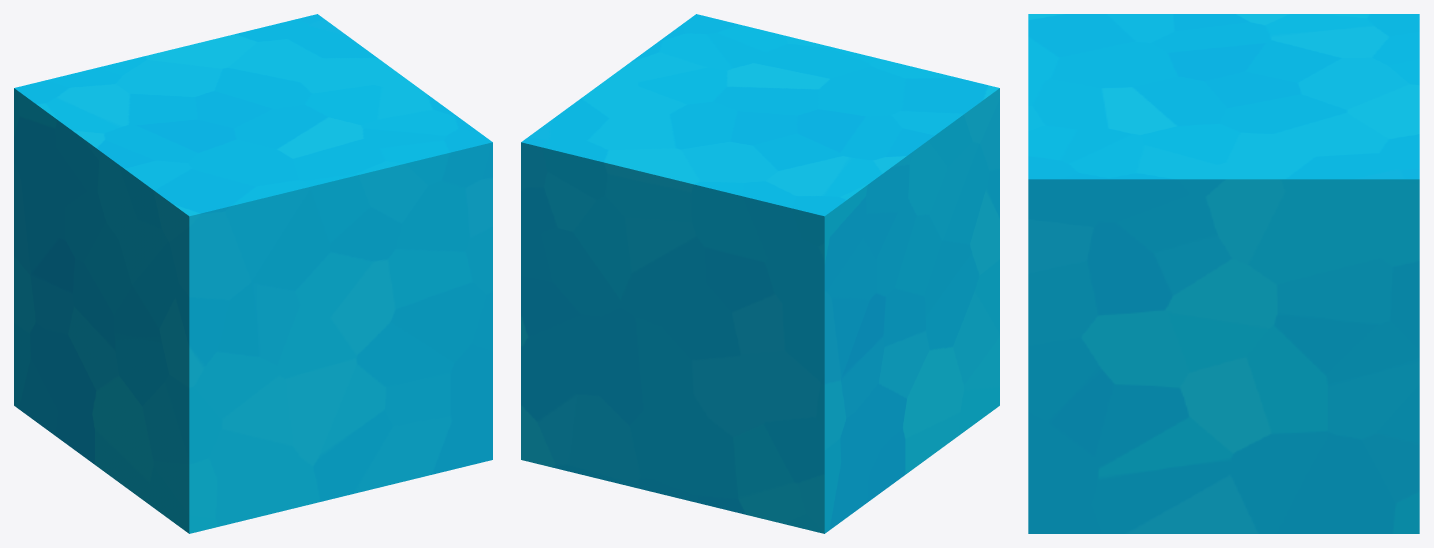
The model's file is IceCrate.fbx.
3 views of the same model, side by side, from view 1: azimuth 30°, elevation 25°; view 2: azimuth 150°, elevation 25°; view 3: azimuth 270°, elevation 25° (orthographic). The views are drawn at different scales.
Visible parts, largest first — view 1: IceCube5; view 2: IceCube5; view 3: IceCube5.
Boxes of the visible parts, x1,y1,x2,y2 form: IceCube5: (14,14,492,533); IceCube5: (521,14,999,533); IceCube5: (1028,14,1419,533).
Size of the model in its own units: 100 by 100 by 100.
